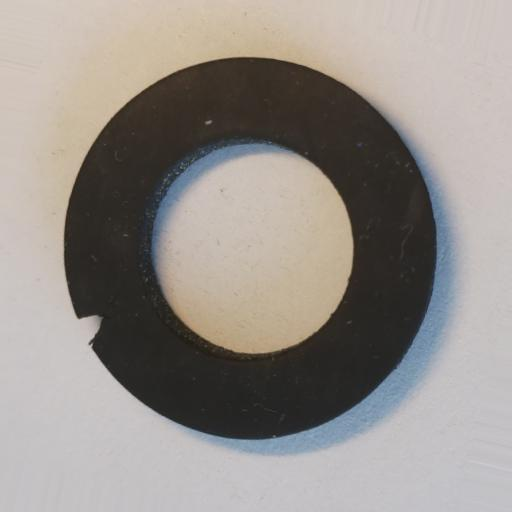defect: (76, 313, 107, 350)
